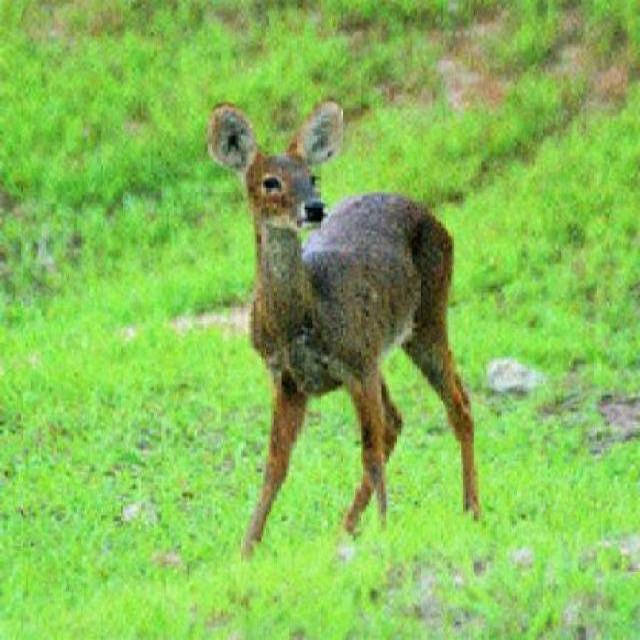deer: (198, 96, 507, 559)
